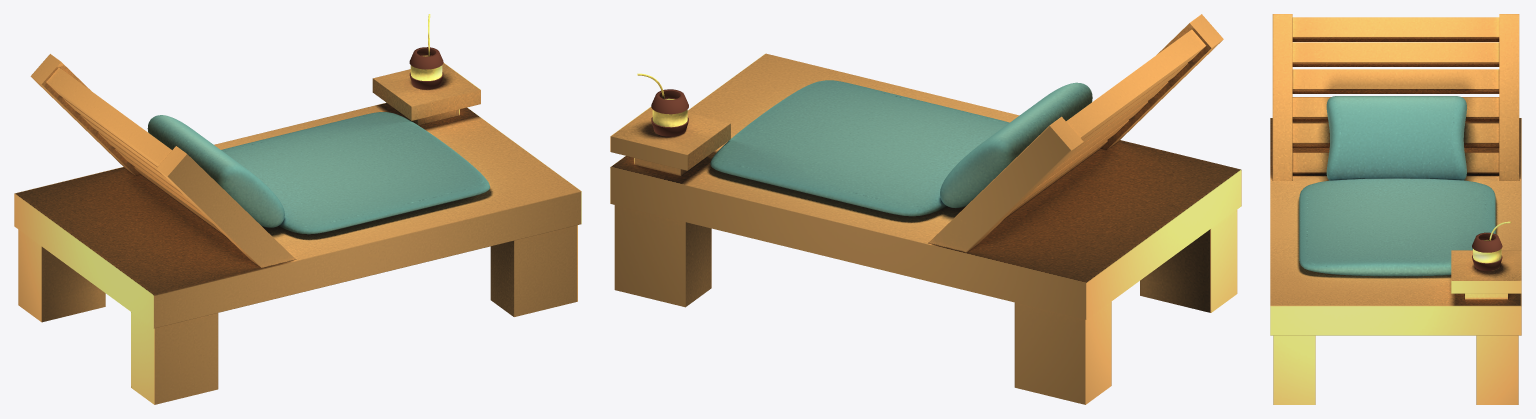
File: beachChair.glb
3 views of the same model, side by side, from view 1: azimuth 30°, elevation 25°; view 2: azimuth 150°, elevation 25°; view 3: azimuth 270°, elevation 25° (orthographic). The views are drawn at different scales.
Parts seen in each view (by area): view 1: BeachChair; view 2: BeachChair; view 3: BeachChair.
Boxes of the visible parts, x1,y1,x2,y2 form: BeachChair: (14, 14, 581, 404); BeachChair: (610, 14, 1241, 404); BeachChair: (1270, 14, 1521, 404).
Bounding box in the file's own units: 5.32 × 2.89 × 3.
Materials: 5 (4 with a texture image).
